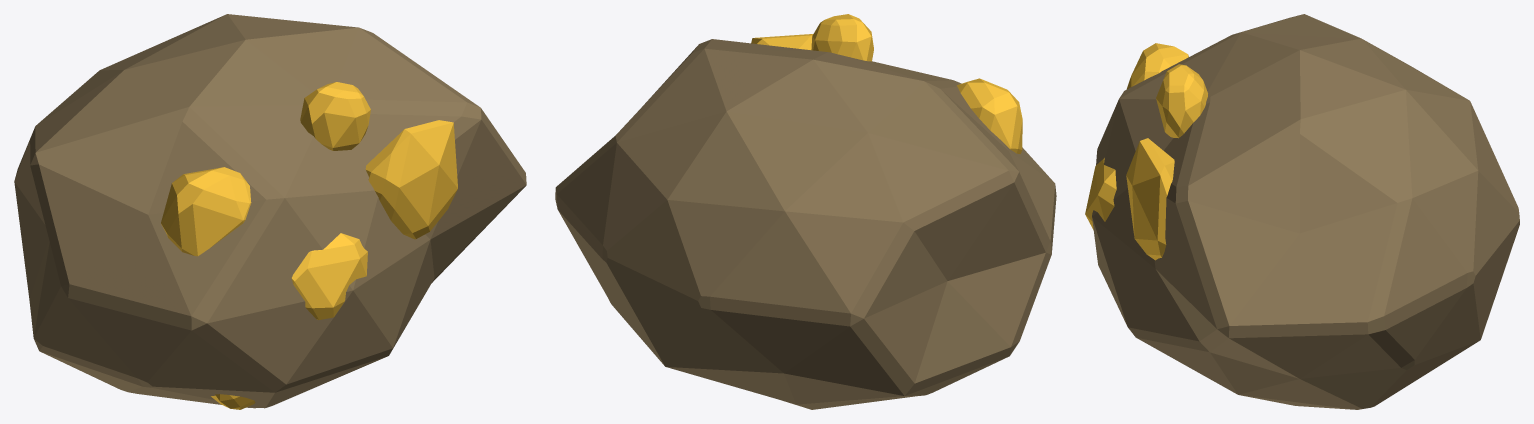
Rendered from gold_tier5.glb.
3 views of the same model, side by side, from view 1: azimuth 30°, elevation 25°; view 2: azimuth 150°, elevation 25°; view 3: azimuth 270°, elevation 25° (orthographic). The views are drawn at different scales.
Visible parts, largest first — view 1: gold_body, gold_deposit_03, gold_deposit_01, gold_deposit_02, gold_deposit_04; view 2: gold_body, gold_deposit_01, gold_deposit_04, gold_deposit_03; view 3: gold_body, gold_deposit_03, gold_deposit_04, gold_deposit_02, gold_deposit_01.
Boxes of the visible parts, box(x1,y1,x2,y2) form: gold_body: box(14, 14, 526, 408); gold_deposit_03: box(365, 120, 457, 239); gold_deposit_01: box(161, 167, 251, 256); gold_deposit_02: box(291, 233, 367, 319); gold_deposit_04: box(300, 82, 370, 150); gold_body: box(555, 39, 1056, 409); gold_deposit_01: box(957, 78, 1022, 153); gold_deposit_04: box(811, 14, 873, 61); gold_deposit_03: box(751, 34, 813, 49); gold_body: box(1092, 14, 1519, 409); gold_deposit_03: box(1126, 138, 1174, 260); gold_deposit_04: box(1156, 64, 1207, 138); gold_deposit_02: box(1085, 158, 1116, 229); gold_deposit_01: box(1126, 43, 1188, 89).
Bounding box in the file's own units: 2.09 × 1.59 × 1.77.
